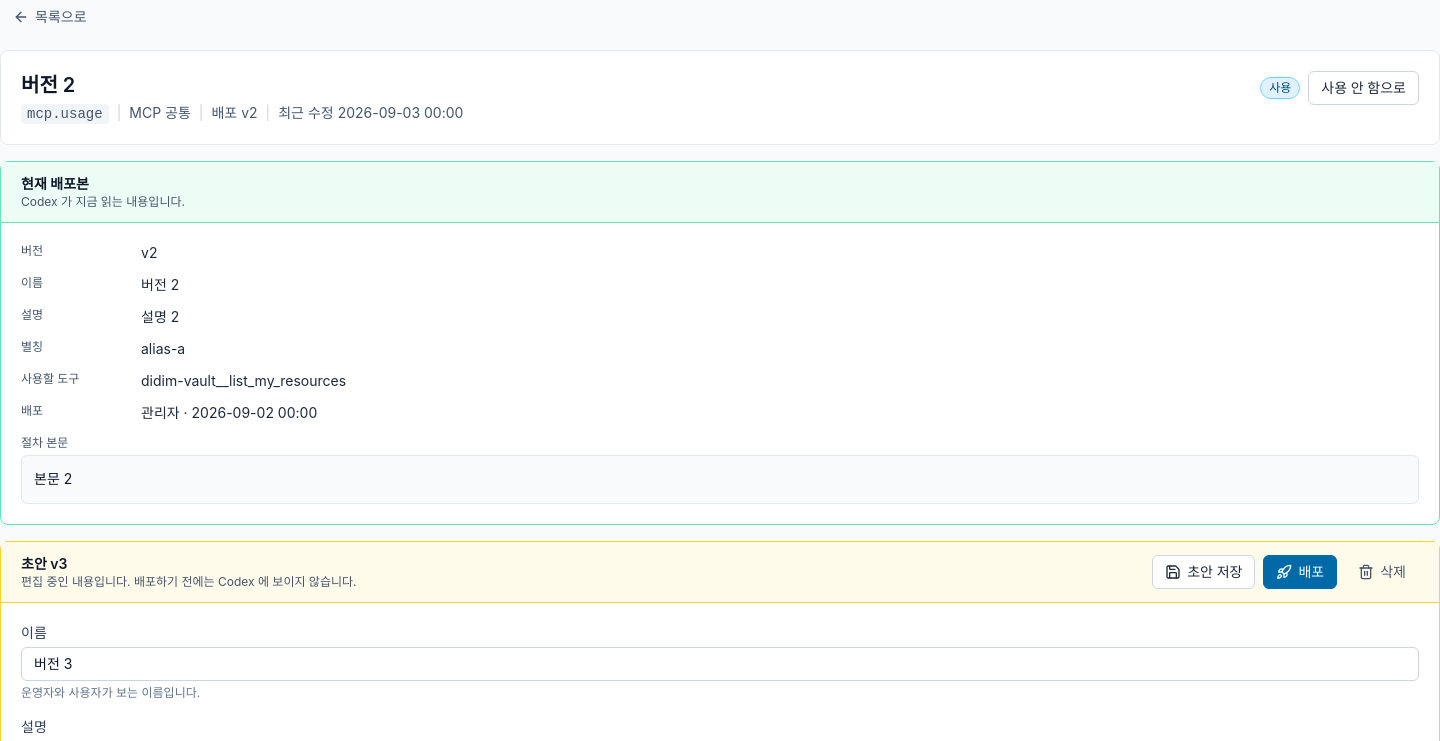
스킬 상세 › 취소하면 아무 요청도 보내지 않는다
Expected: the heading "현재 배포본" is shown, x1=21 y1=175 x2=89 y2=192
Click the button "배포": (1300, 572) x1=1264 y1=555 x2=1337 y2=589
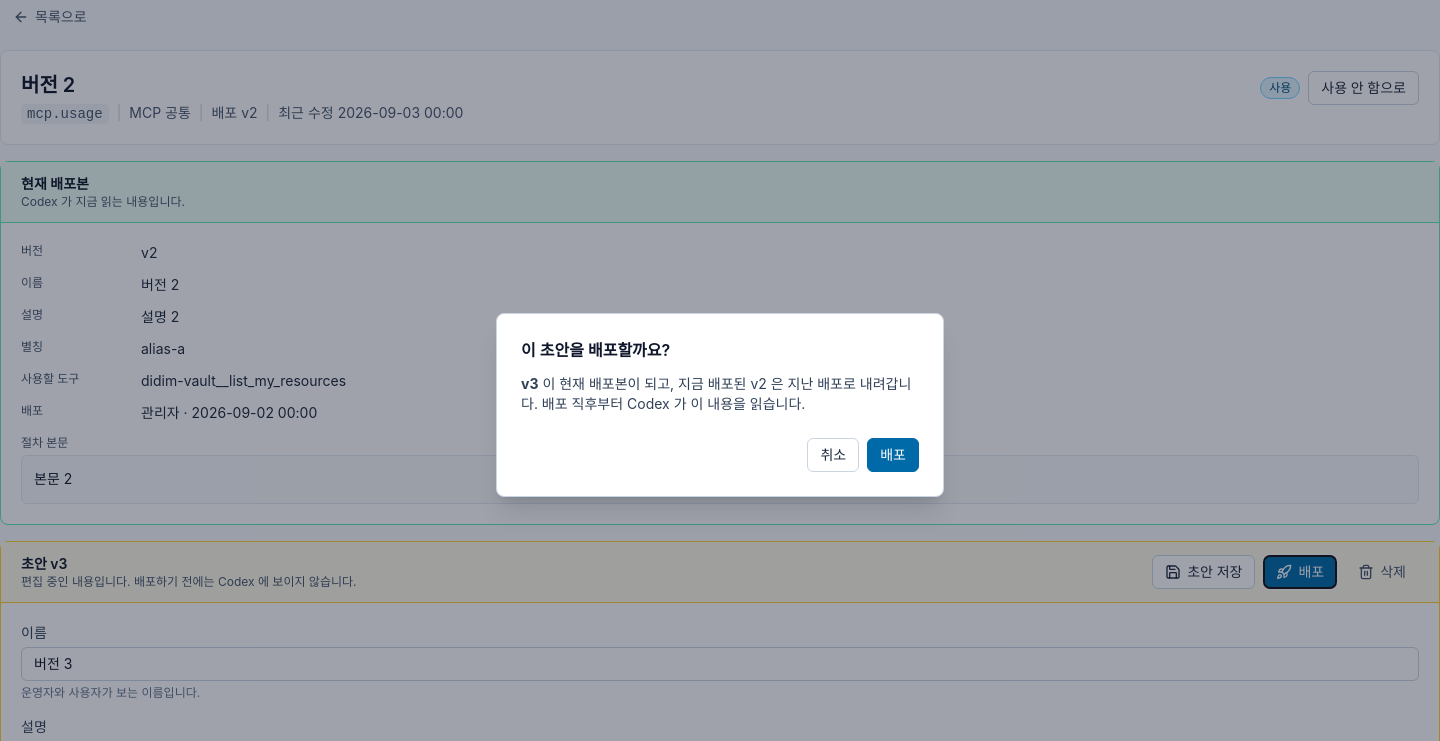
Click the button "취소": (833, 455) x1=808 y1=438 x2=859 y2=472
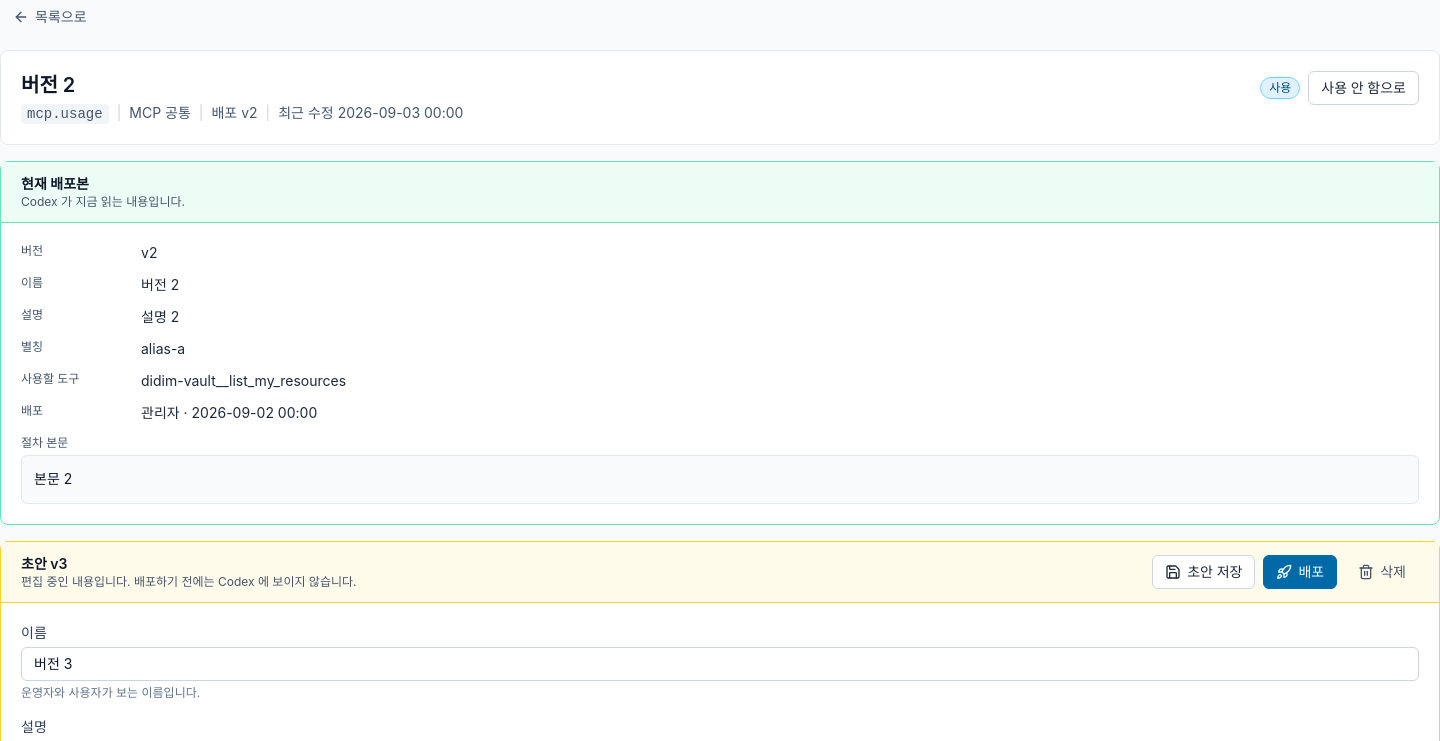
Now the dialog is gone
